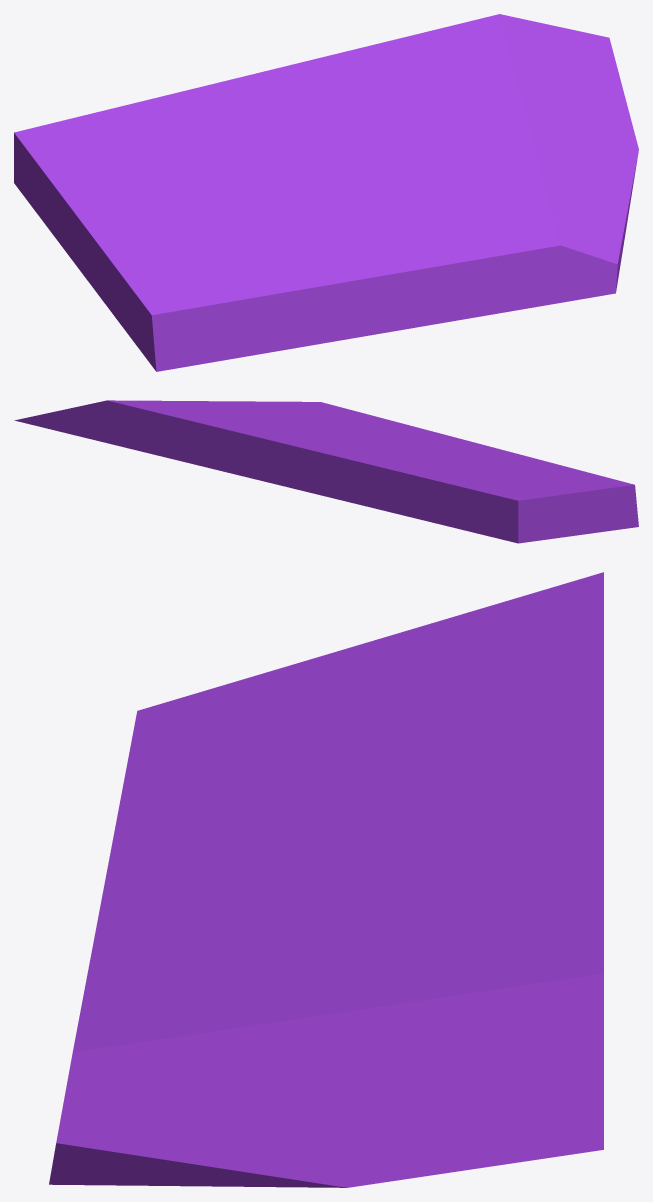
Rendered from Window_153_3_chunks.fbx.
3 renders of one model, top to bottom at view 1: azimuth 30°, elevation 25°; view 2: azimuth 150°, elevation 25°; view 3: azimuth 270°, elevation 25°, orthographic. The views are drawn at different scales.
Parts seen in each view (by area): view 1: Window_153_3_0, Window_153_3_3, Window_153_3_12, Window_153_3_1, Window_153_3_10, Window_153_3_2, Window_153_3_24, Window_153_3_22, Window_153_3_20, Window_153_3_7, Window_153_3_13, Window_153_3_21 (+7 smaller); view 2: Window_153_3_3, Window_153_3_20, Window_153_3_0, Window_153_3_18, Window_153_3_21, Window_153_3_1, Window_153_3_22, Window_153_3_10, Window_153_3_2, Window_153_3_24, Window_153_3_17, Window_153_3_5 (+4 smaller); view 3: Window_153_3_12, Window_153_3_22, Window_153_3_1, Window_153_3_3, Window_153_3_10, Window_153_3_24, Window_153_3_2, Window_153_3_0, Window_153_3_20, Window_153_3_21, Window_153_3_18, Window_153_3_17 (+5 smaller).
Boxes of the visible parts, x1=… form: Window_153_3_0: x1=55, y1=184, x2=222, y2=370; Window_153_3_3: x1=14, y1=91, x2=232, y2=256; Window_153_3_12: x1=511, y1=94, x2=638, y2=302; Window_153_3_1: x1=227, y1=161, x2=463, y2=251; Window_153_3_10: x1=389, y1=138, x2=561, y2=304; Window_153_3_2: x1=86, y1=173, x2=284, y2=273; Window_153_3_24: x1=395, y1=74, x2=558, y2=164; Window_153_3_22: x1=503, y1=16, x2=622, y2=130; Window_153_3_20: x1=272, y1=32, x2=424, y2=127; Window_153_3_7: x1=387, y1=261, x2=548, y2=332; Window_153_3_13: x1=202, y1=251, x2=295, y2=350; Window_153_3_21: x1=405, y1=14, x2=508, y2=103; Window_153_3_3: x1=367, y1=459, x2=565, y2=543; Window_153_3_20: x1=167, y1=416, x2=317, y2=486; Window_153_3_0: x1=533, y1=468, x2=638, y2=536; Window_153_3_18: x1=287, y1=444, x2=395, y2=506; Window_153_3_21: x1=99, y1=400, x2=257, y2=457; Window_153_3_1: x1=331, y1=420, x2=476, y2=461; Window_153_3_22: x1=14, y1=400, x2=170, y2=443; Window_153_3_10: x1=262, y1=402, x2=370, y2=430; Window_153_3_2: x1=439, y1=455, x2=548, y2=489; Window_153_3_24: x1=170, y1=401, x2=301, y2=427; Window_153_3_17: x1=293, y1=428, x2=385, y2=455; Window_153_3_5: x1=319, y1=429, x2=446, y2=464; Window_153_3_12: x1=49, y1=1001, x2=472, y2=1187; Window_153_3_22: x1=350, y1=982, x2=603, y2=1167; Window_153_3_1: x1=116, y1=759, x2=402, y2=968; Window_153_3_3: x1=409, y1=572, x2=603, y2=759; Window_153_3_10: x1=73, y1=896, x2=389, y2=1049; Window_153_3_24: x1=274, y1=898, x2=472, y2=1059; Window_153_3_2: x1=189, y1=639, x2=453, y2=815; Window_153_3_0: x1=129, y1=613, x2=464, y2=766; Window_153_3_20: x1=413, y1=785, x2=603, y2=911; Window_153_3_21: x1=460, y1=903, x2=603, y2=988; Window_153_3_18: x1=465, y1=711, x2=603, y2=809; Window_153_3_17: x1=365, y1=775, x2=526, y2=897.
Bounding box in the file's own units: 1238 × 294 × 590.
